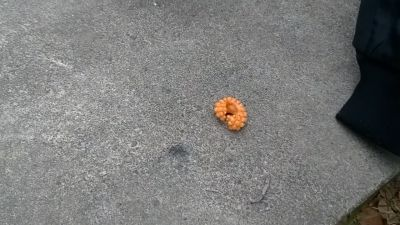eggs: (212, 95, 249, 133)
